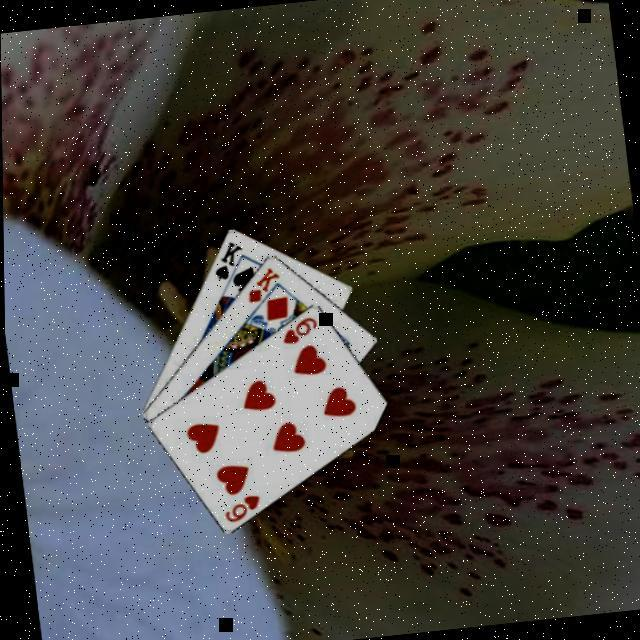6H: (217, 491, 262, 526), (275, 314, 320, 348)
KD: (239, 264, 283, 306)
KS: (205, 238, 246, 284)
